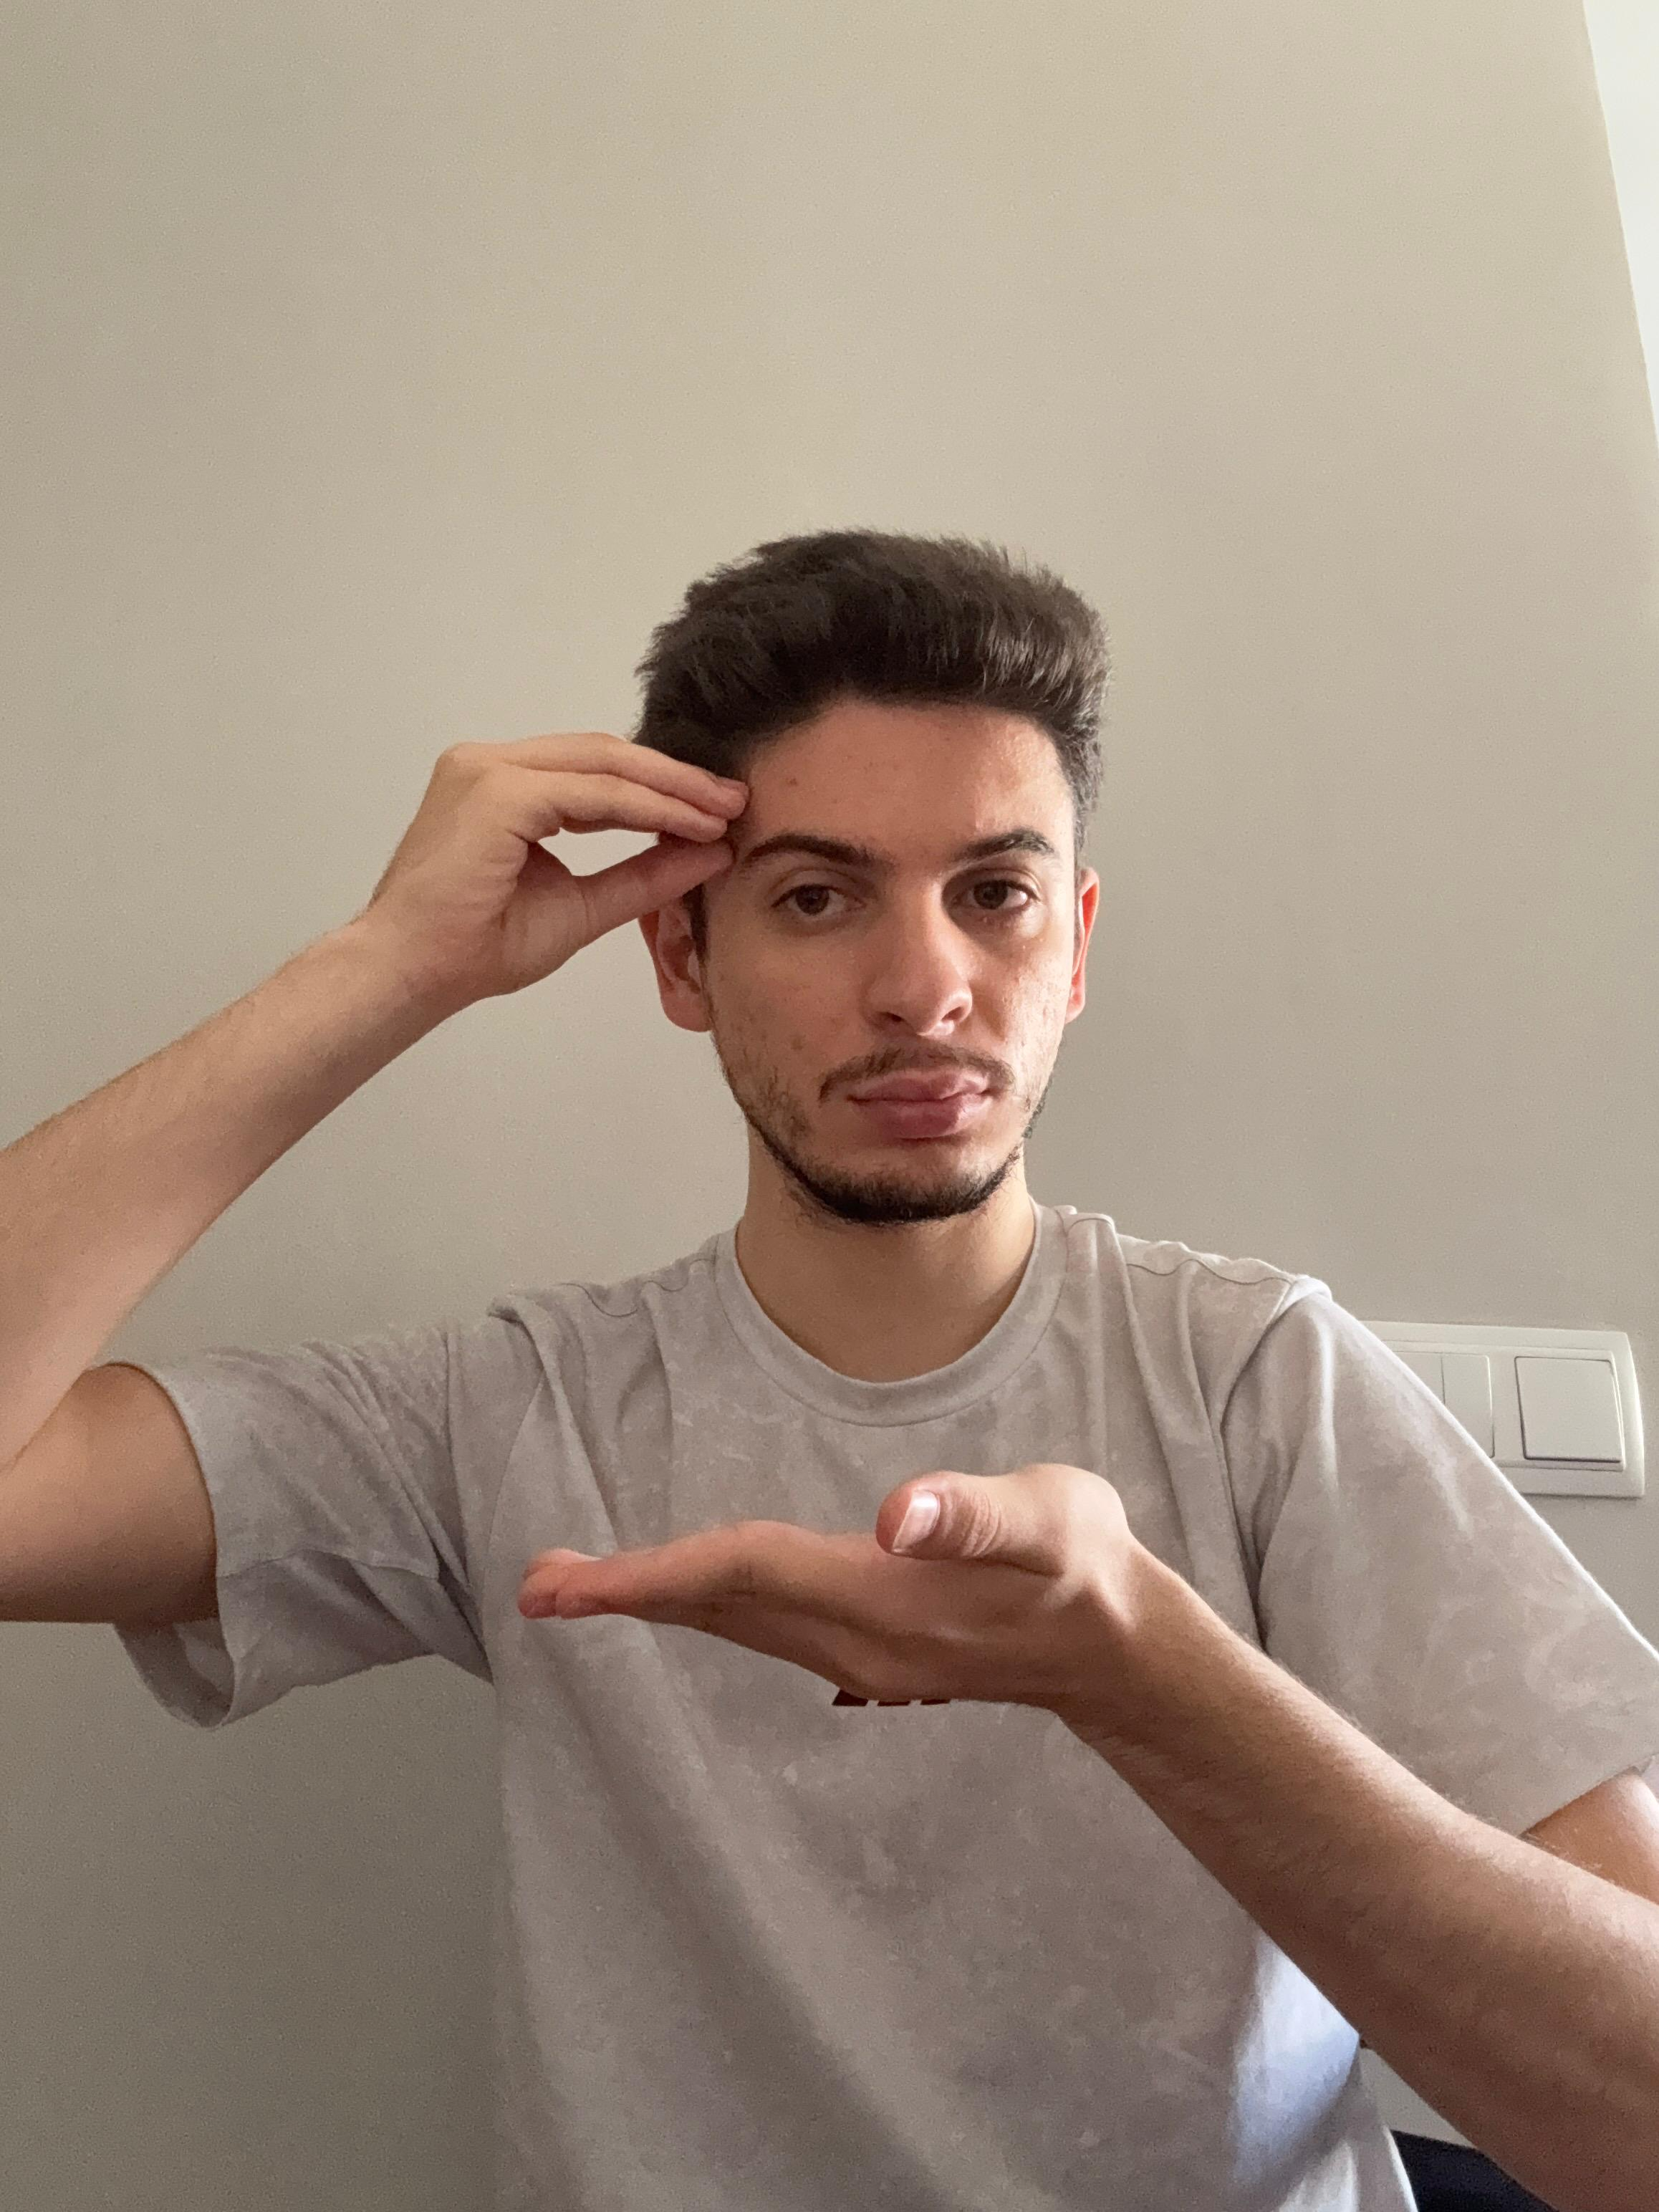learning: (7, 519, 1652, 2202)
